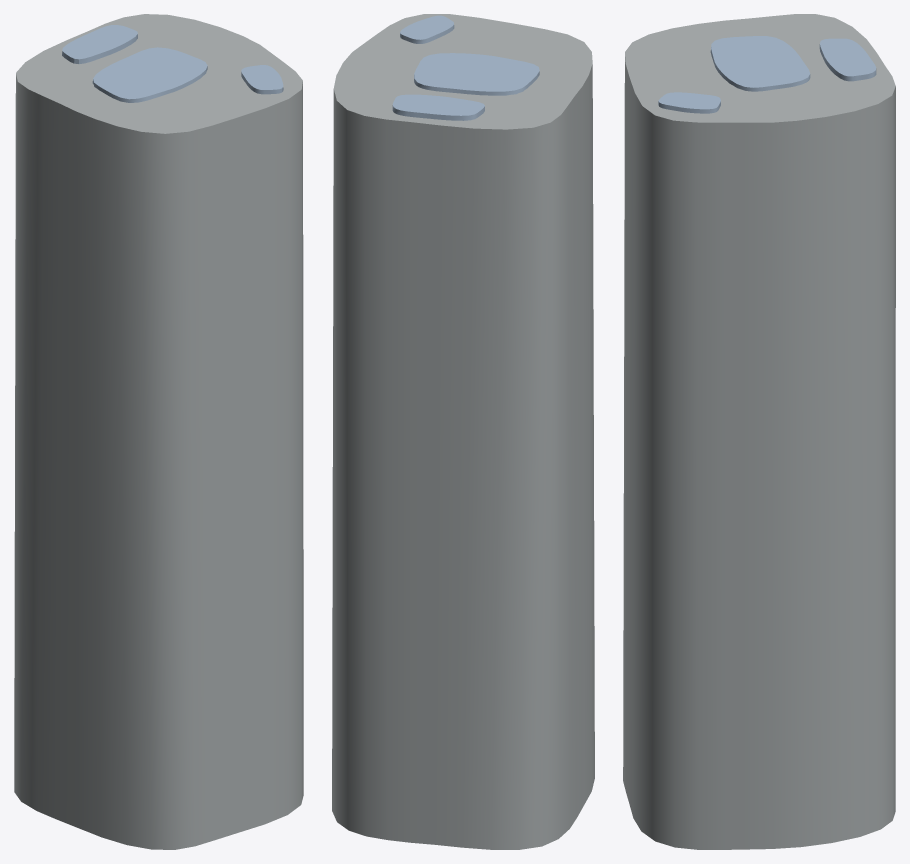
File: Stone.fbx
The picture shows the model from 3 angles, left to right: view 1: azimuth 30°, elevation 25°; view 2: azimuth 150°, elevation 25°; view 3: azimuth 270°, elevation 25°; orthographic projection.
Visible parts, largest first — view 1: Stone; view 2: Stone; view 3: Stone.
Boxes of the visible parts, left/top/right/bottom form: Stone: left=14, top=14, right=303, bottom=849; Stone: left=332, top=14, right=594, bottom=849; Stone: left=623, top=14, right=895, bottom=849.
Bounding box in the file's own units: 257 × 790 × 267.
